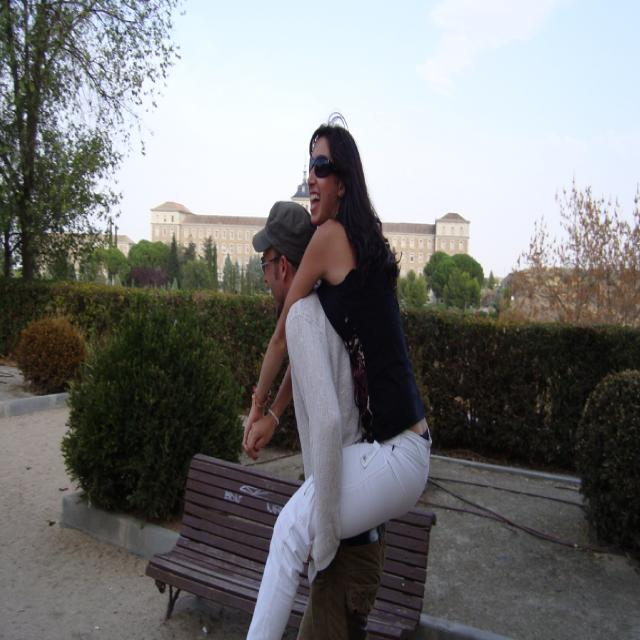Hat: (251, 200, 317, 270)
